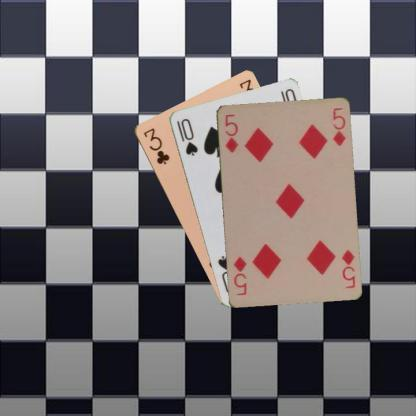10s: (174, 116, 199, 158)
3c: (140, 125, 171, 166)
5d: (222, 112, 240, 154), (339, 246, 356, 290)
